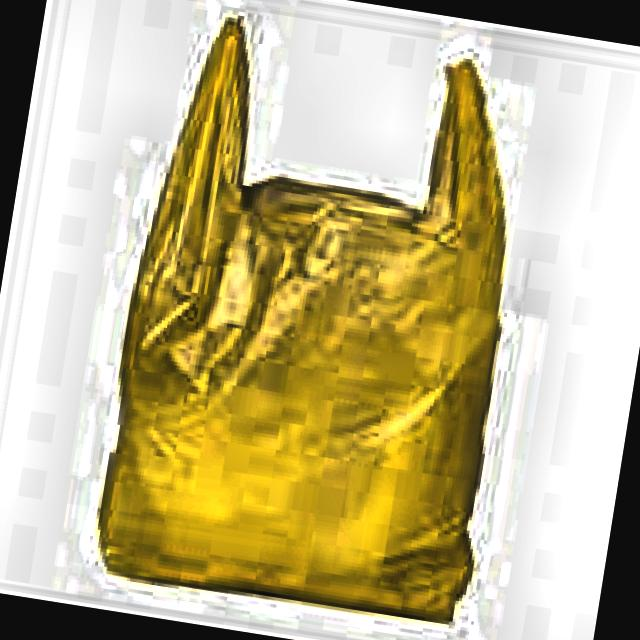plastic bag: (100, 21, 504, 616)
